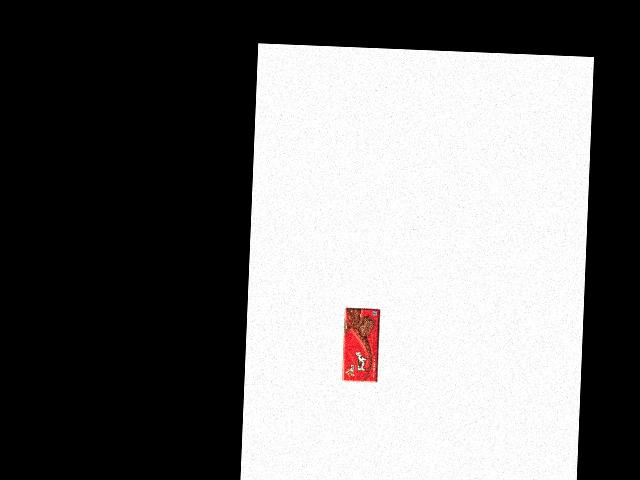chocolate: (334, 304, 374, 375)
